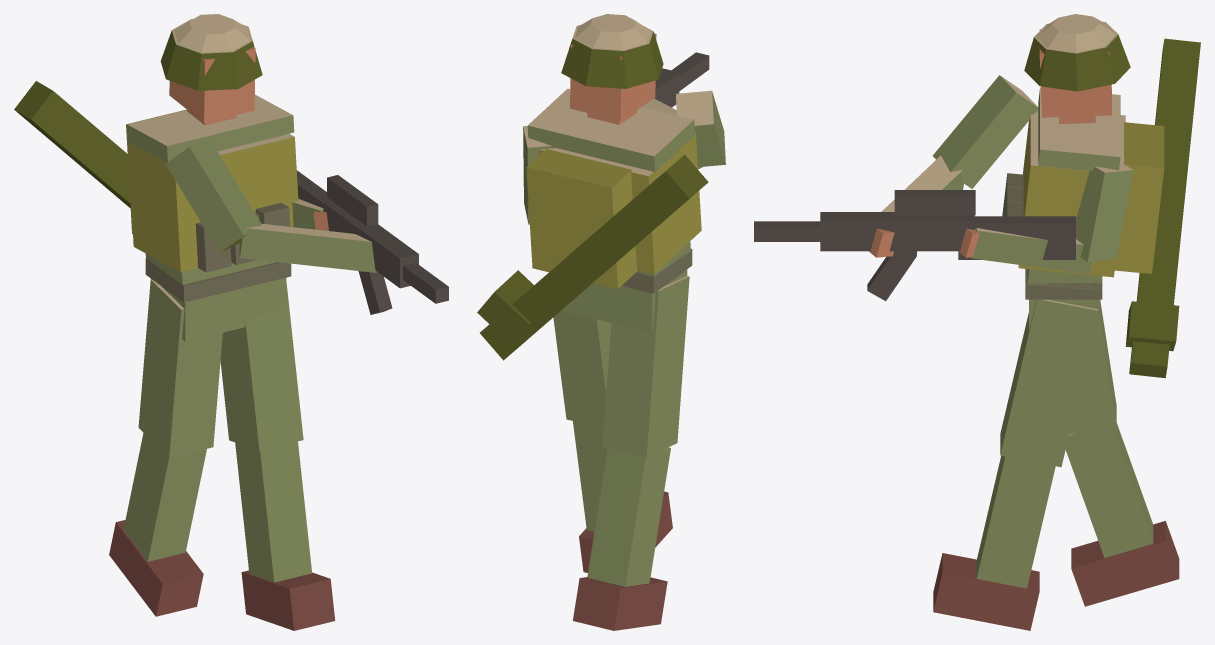
File: SM_SoldadoArmado_v6_G36E_C90_Apuntando_LOD1.fbx
3 renders of one model, left to right at view 1: azimuth 30°, elevation 25°; view 2: azimuth 150°, elevation 25°; view 3: azimuth 270°, elevation 25°, orthographic.
Parts seen in each view (by area): view 1: SM_bloques.soldado_armado_v6_LOD1; view 2: SM_bloques.soldado_armado_v6_LOD1; view 3: SM_bloques.soldado_armado_v6_LOD1.
Part boxes in pixels (x1,y1,x2,y2): SM_bloques.soldado_armado_v6_LOD1: [14, 14, 448, 630]; SM_bloques.soldado_armado_v6_LOD1: [477, 14, 725, 630]; SM_bloques.soldado_armado_v6_LOD1: [754, 14, 1200, 630].
Bounding box in the file's own units: 0.7159 × 1.77 × 1.22.
